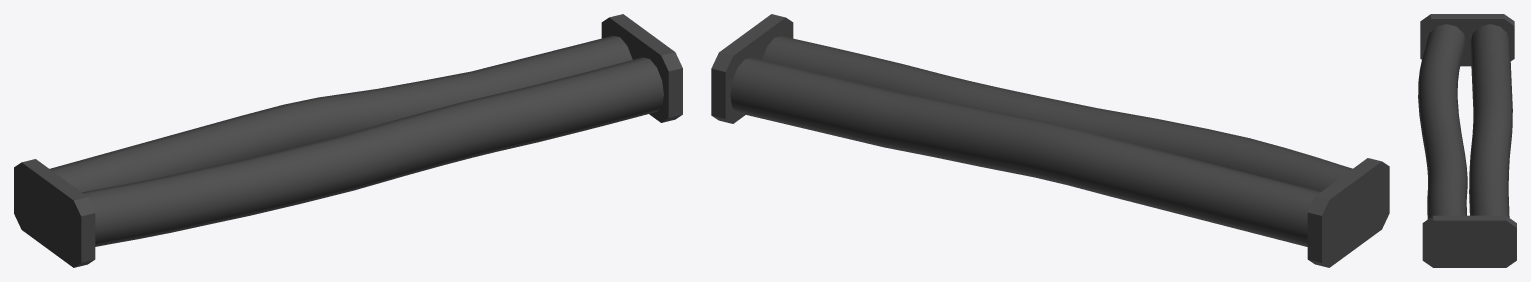
The model's file is Pfb_Soda_Pipe__3.fbx.
3 views of the same model, side by side, from view 1: azimuth 30°, elevation 25°; view 2: azimuth 150°, elevation 25°; view 3: azimuth 270°, elevation 25° (orthographic). The views are drawn at different scales.
Parts seen in each view (by area): view 1: MAT_Soda_Pipe 1; view 2: MAT_Soda_Pipe 1; view 3: MAT_Soda_Pipe 1.
Part boxes in pixels (x1,y1,x2,y2): MAT_Soda_Pipe 1: [14, 14, 682, 267]; MAT_Soda_Pipe 1: [711, 14, 1389, 267]; MAT_Soda_Pipe 1: [1418, 14, 1516, 267].
Bounding box in the file's own units: 3.71 × 0.3963 × 0.7488.
1 material, 1 textured.
